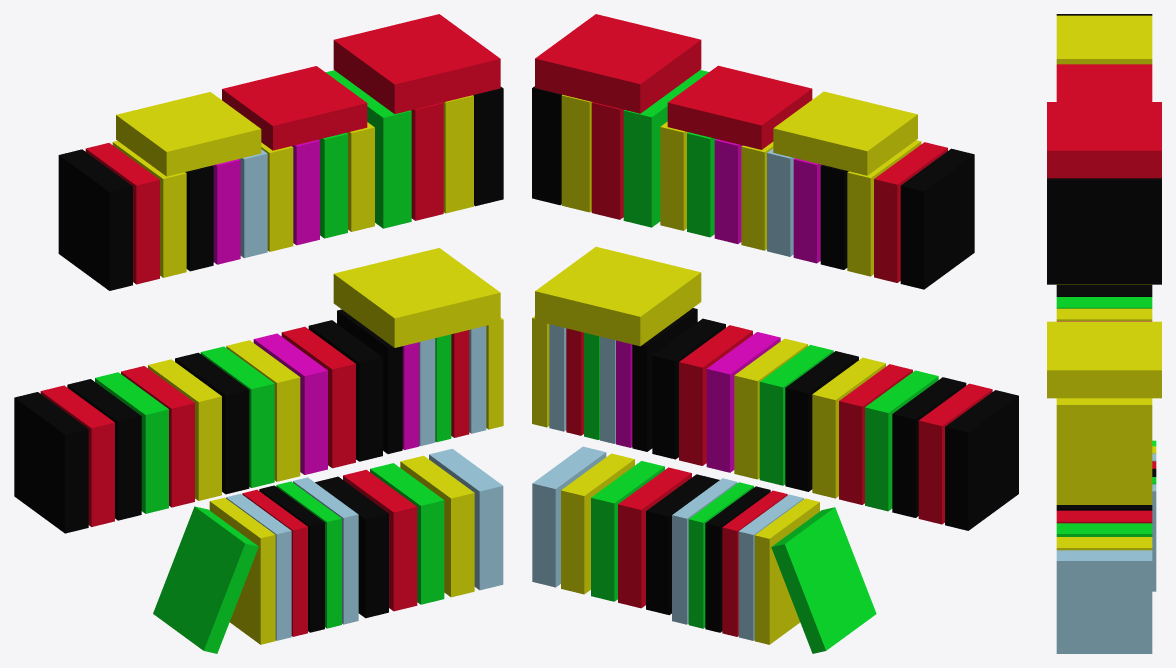
The model's file is Books.fbx.
3 views of the same model, side by side, from view 1: azimuth 30°, elevation 25°; view 2: azimuth 150°, elevation 25°; view 3: azimuth 270°, elevation 25° (orthographic). The views are drawn at different scales.
Visible parts, largest first — view 1: Books; view 2: Books; view 3: Books.
Part boxes in pixels (left/top/right/bottom): Books: left=14, top=14, right=503, bottom=653; Books: left=532, top=14, right=1018, bottom=653; Books: left=1047, top=14, right=1161, bottom=653.
Bounding box in the file's own units: 658 × 766 × 159.
